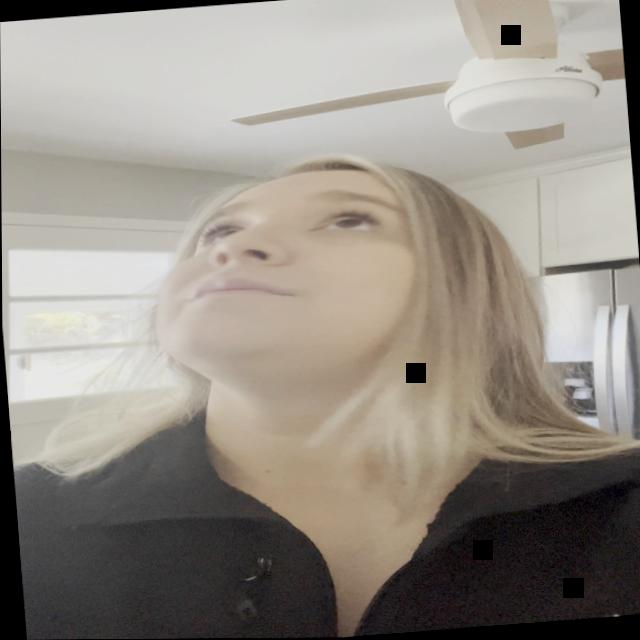NO-Mask: (139, 164, 415, 390)
